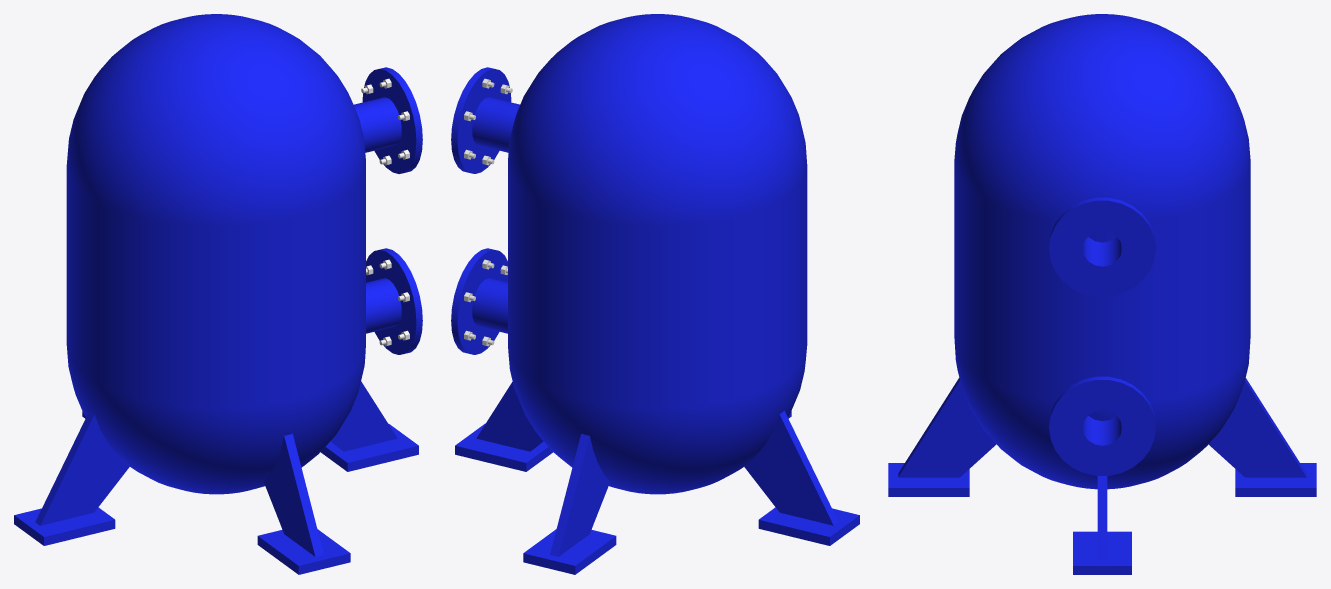
The model's file is Tank.obj.
3 renders of one model, left to right at view 1: azimuth 30°, elevation 25°; view 2: azimuth 150°, elevation 25°; view 3: azimuth 270°, elevation 25°, orthographic.
Visible parts, largest first — view 1: Volumenkörper1; view 2: Volumenkörper1; view 3: Volumenkörper1.
Boxes of the visible parts, box(x1,y1,x2,y2) form: Volumenkörper1: box(14, 14, 422, 574); Volumenkörper1: box(451, 14, 859, 574); Volumenkörper1: box(888, 14, 1316, 574).
Bounding box in the file's own units: 0.8672 × 1.02 × 0.8672.
